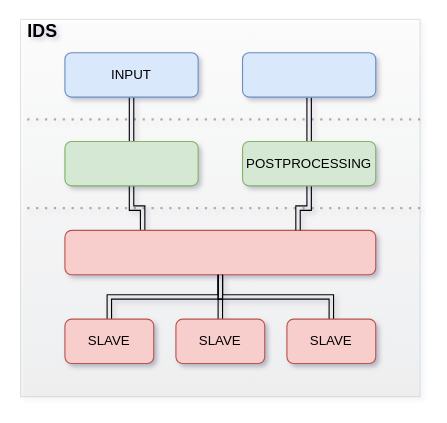
The diagram is 447 pixels wide and 423 high, and some of its shapes have lost their labels. Each missing label, with the centre of its shape:
"MASTER" goes at [220,252].
"OUTPUT" goes at [308,74].
"PREPROCESSING" goes at [131,163].
